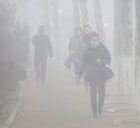person: (81, 32, 112, 119), (66, 25, 90, 88), (32, 25, 55, 87)
